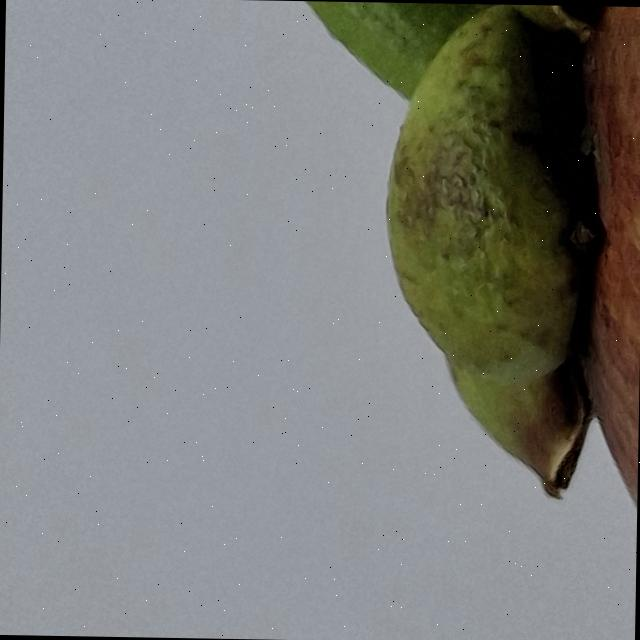mangosteen: (94, 0, 640, 640)
